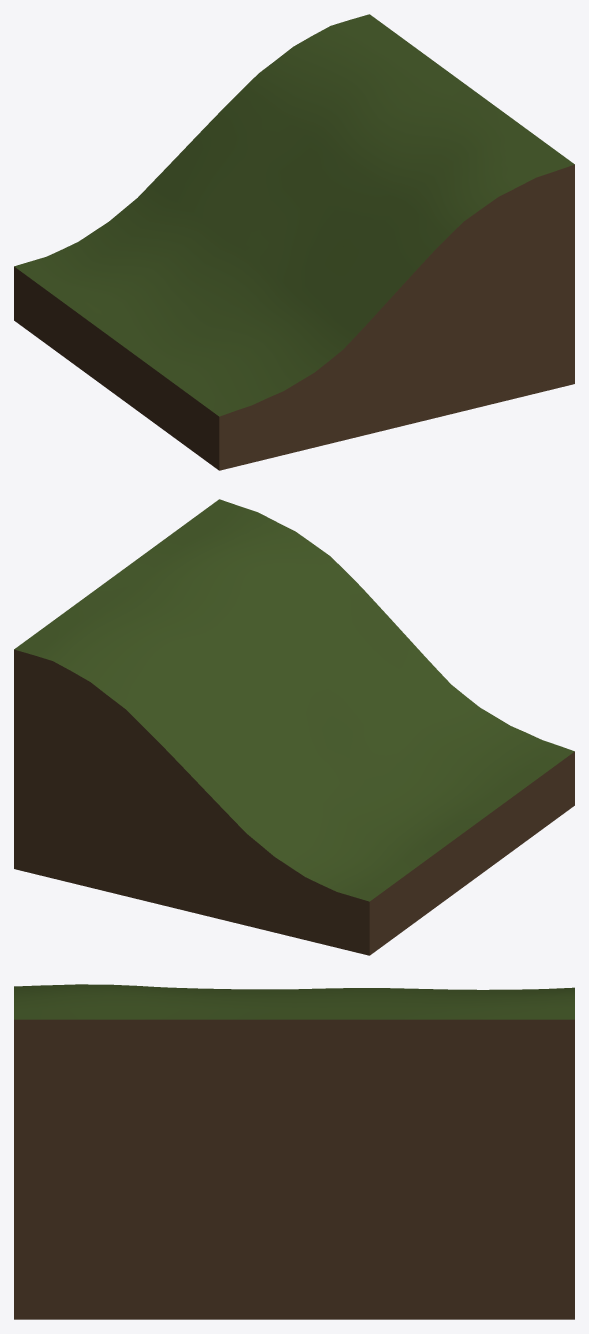
The picture shows the model from 3 angles, top to bottom: view 1: azimuth 30°, elevation 25°; view 2: azimuth 150°, elevation 25°; view 3: azimuth 270°, elevation 25°; orthographic projection. The views are drawn at different scales.
Visible parts, largest first — view 1: c2go; view 2: c2go; view 3: c2go.
Part boxes in pixels (left/top/right/bottom): c2go: left=14, top=14, right=574, bottom=470; c2go: left=14, top=499, right=574, bottom=955; c2go: left=14, top=984, right=574, bottom=1319.
Size of the model in its own units: 9 by 5.31 by 9.
